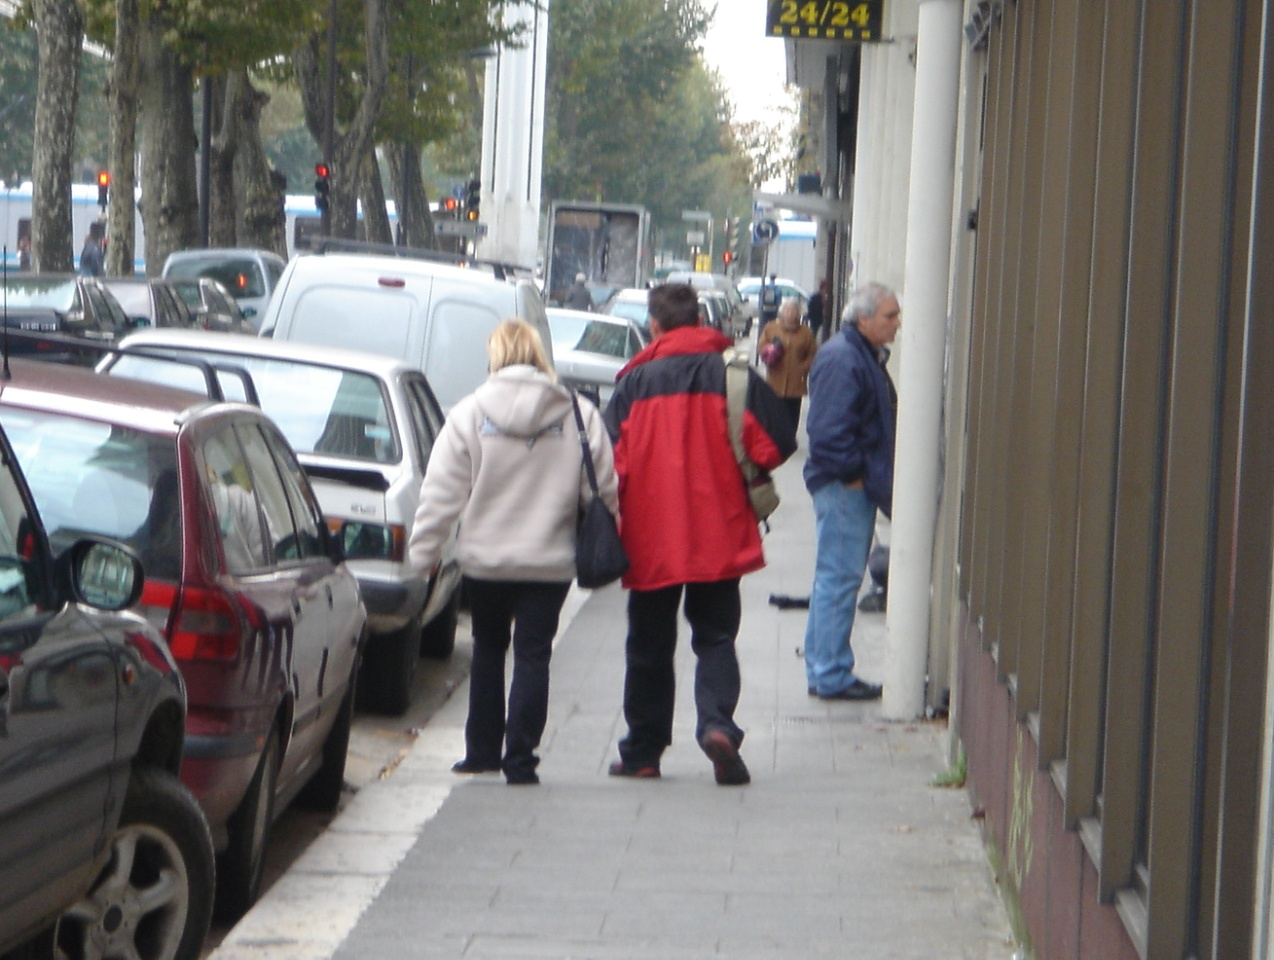person: (609, 287, 752, 789), (439, 318, 591, 790), (810, 275, 902, 704), (761, 293, 817, 465)
